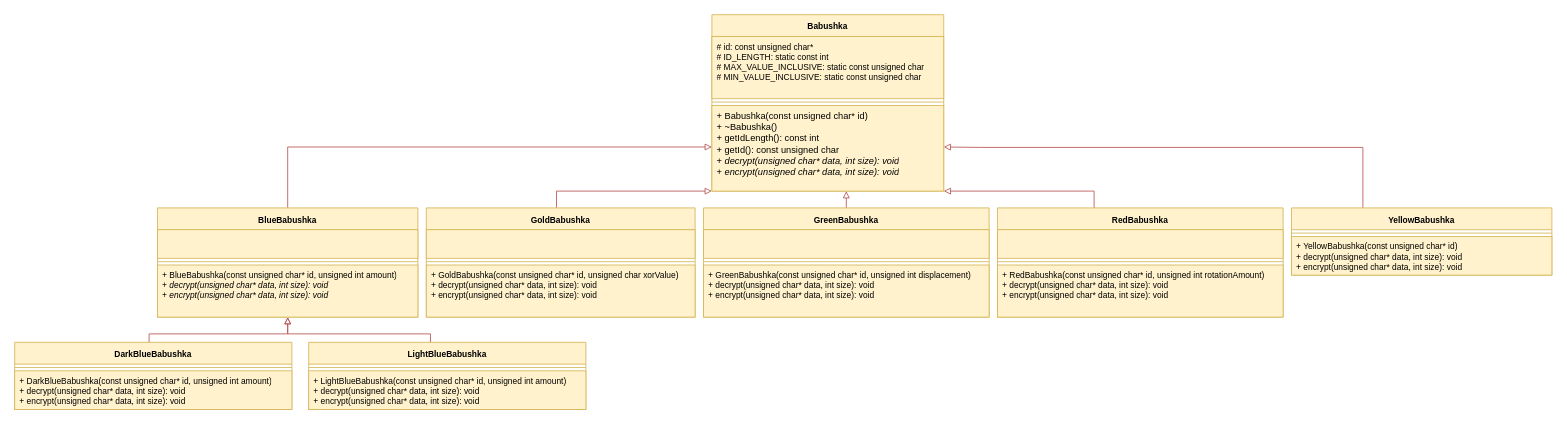
This 1567x427 diagram has some shape labels left out. The shapes that lost their labels are listed below. From the top down, each one's centre as x and y in pixels, then its label:
(x=287, y=243): # amount: unsigned int
(x=560, y=243): - xorValue: unsigned char
(x=846, y=243): - displacement: unsigned int
(x=1140, y=243): - rotationAmount: unsigned int
